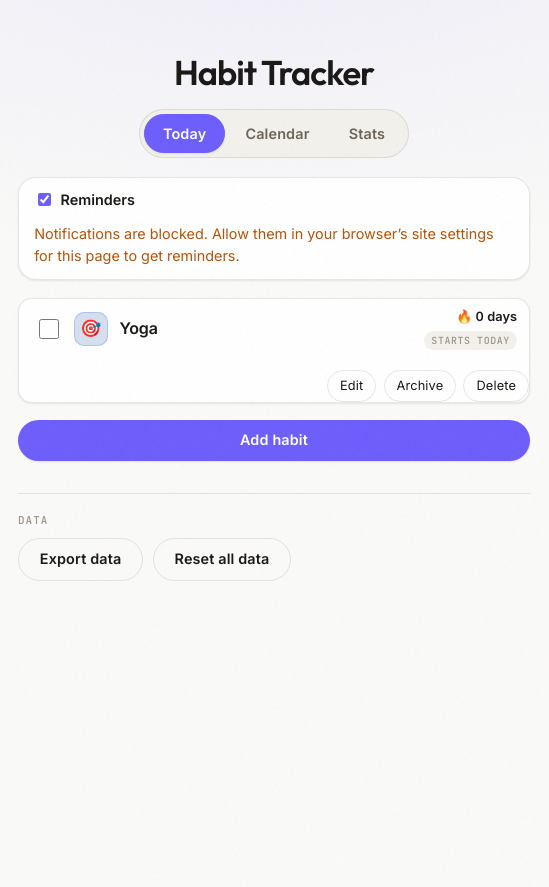
Test: App › cancels editing without changing the habit
The image size is (549, 887).
Click the button with aria-label "Edit Yoga" at (352, 386), box [327,370,376,402]
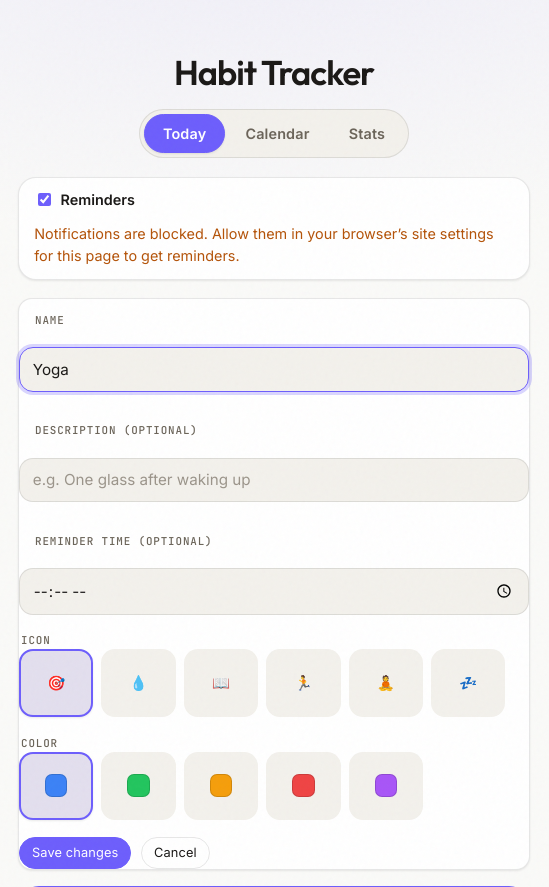
Replace the text in the field labelled "Name" with "Something else" at (274, 370), box [19,347,529,392]
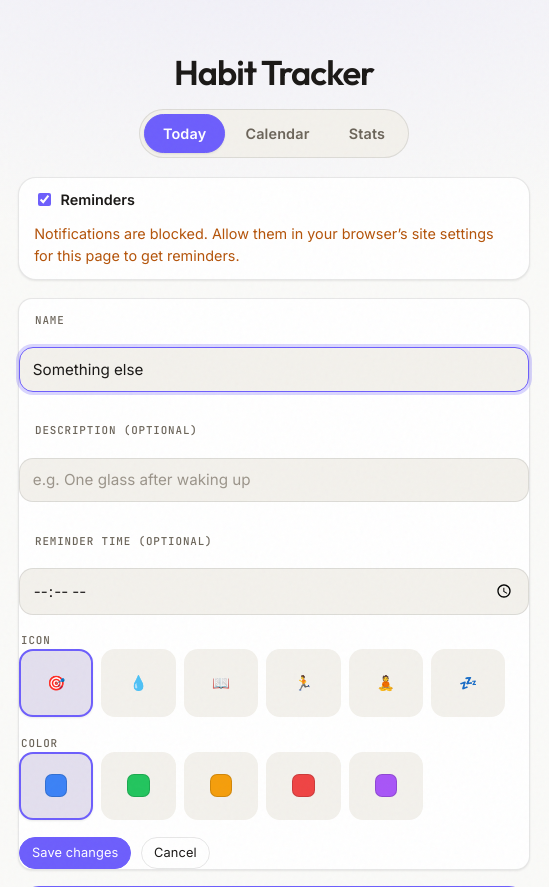
Click the button "Cancel" at (175, 853), box [141,837,210,869]
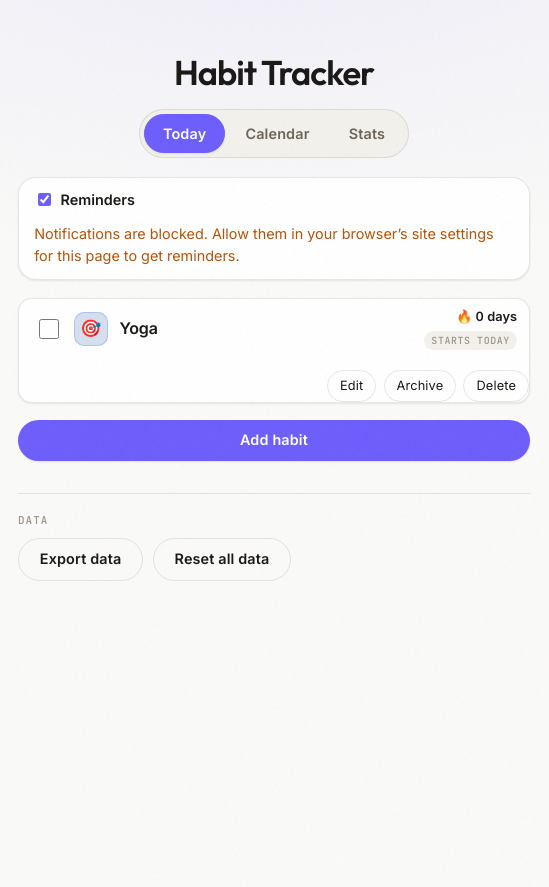
Check: the text "Yoga" is shown, box [120,316,158,341]
